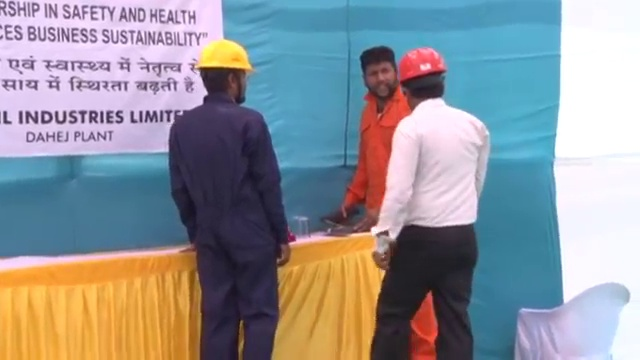helmet: (195, 38, 257, 74), (396, 46, 452, 83)
helmet_off: (361, 46, 398, 102)
helmet_on: (195, 37, 257, 103), (396, 46, 454, 111)
person: (165, 38, 292, 360), (372, 45, 492, 360), (340, 43, 411, 235)
